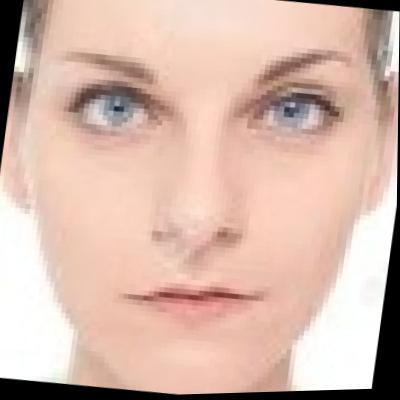netural: (0, 0, 388, 400)
